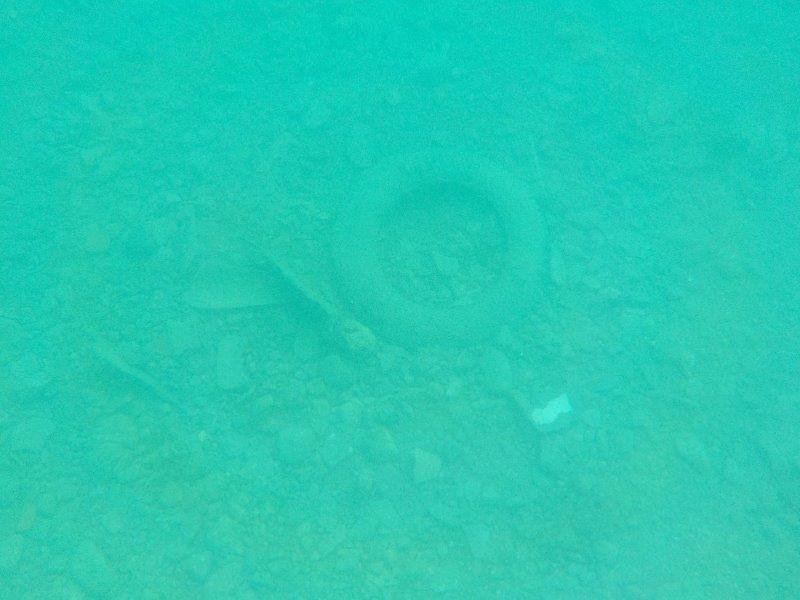tire: (323, 143, 554, 354)
